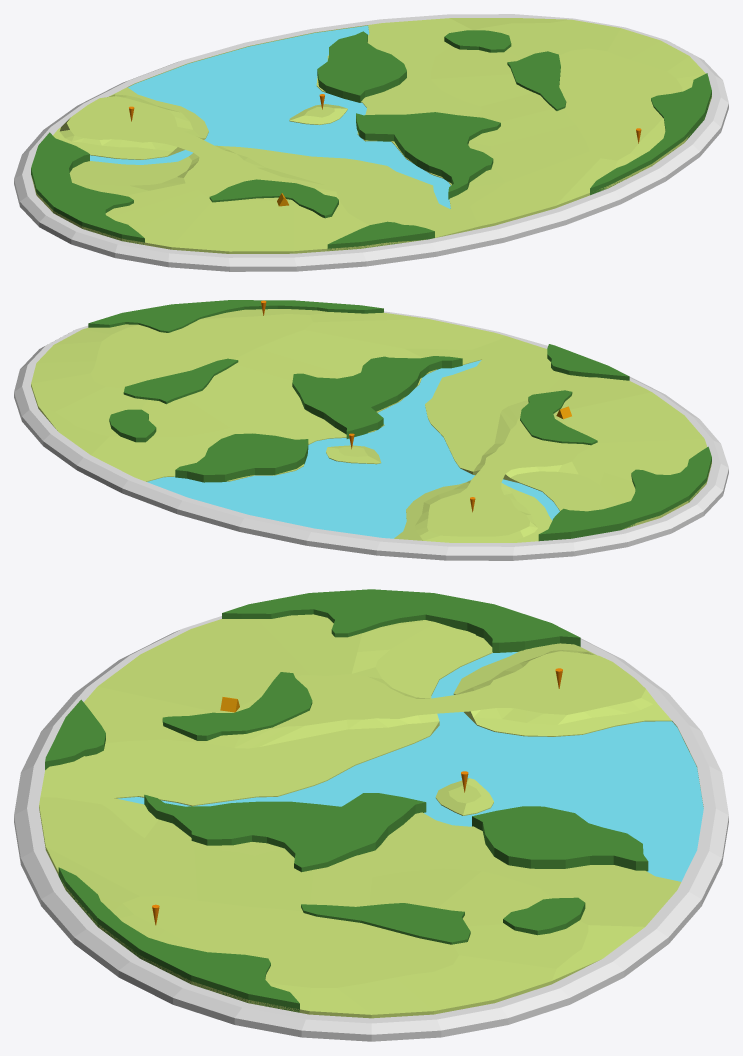
The model's file is enviBlocked_v2.fbx.
The picture shows the model from 3 angles, top to bottom: view 1: azimuth 30°, elevation 25°; view 2: azimuth 150°, elevation 25°; view 3: azimuth 270°, elevation 25°; orthographic projection. The views are drawn at different scales.
Parts seen in each view (by area): view 1: groundTriangle, block, water, base; view 2: groundTriangle, block, water, base; view 3: groundTriangle, block, water, base.
Boxes of the visible parts, x1,y1,x2,y2 form: groundTriangle: (31, 18, 711, 253); block: (31, 30, 711, 250); water: (90, 25, 450, 208); base: (14, 14, 728, 271); groundTriangle: (31, 309, 711, 542); block: (88, 300, 711, 541); water: (147, 360, 559, 538); base: (14, 311, 728, 560); groundTriangle: (39, 614, 703, 1018); block: (45, 589, 648, 1012); water: (117, 652, 703, 881); base: (14, 616, 728, 1041).
Bounding box in the file's own units: 13588 × 573 × 9355.
